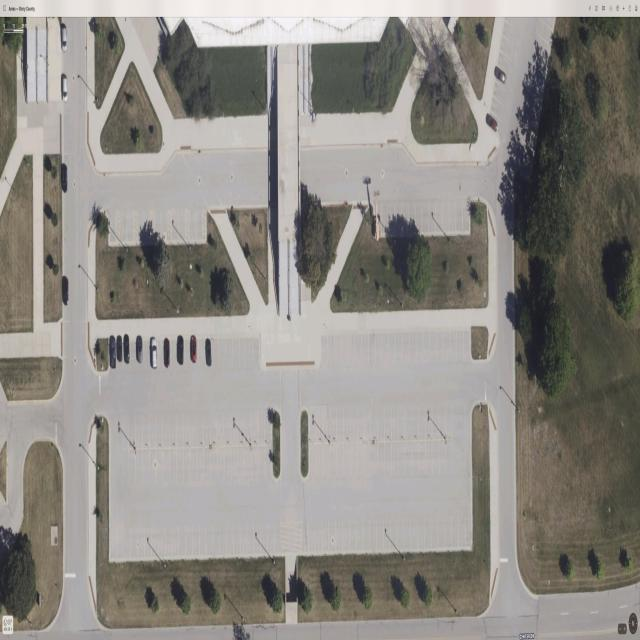Empty: (162, 414, 170, 450), (142, 415, 150, 449), (128, 415, 136, 449), (121, 415, 129, 449), (210, 413, 218, 447), (230, 412, 238, 446), (244, 412, 252, 446), (183, 449, 190, 487), (148, 416, 156, 449), (168, 416, 176, 448), (176, 416, 184, 448), (196, 416, 204, 448), (362, 519, 370, 551), (356, 520, 364, 552), (348, 520, 356, 552), (170, 341, 178, 371), (156, 339, 164, 369), (143, 341, 151, 371), (190, 414, 197, 448), (203, 413, 210, 447), (238, 414, 245, 446), (198, 338, 205, 369), (156, 414, 162, 450), (183, 341, 190, 371), (206, 525, 213, 555), (183, 414, 189, 448), (217, 413, 223, 447), (135, 415, 141, 449), (130, 341, 136, 372)
Parked: (176, 336, 184, 372), (204, 334, 212, 370), (150, 338, 158, 372), (190, 336, 198, 370), (136, 340, 144, 372), (122, 340, 130, 372), (163, 338, 171, 369), (108, 340, 115, 372), (117, 340, 123, 372)
